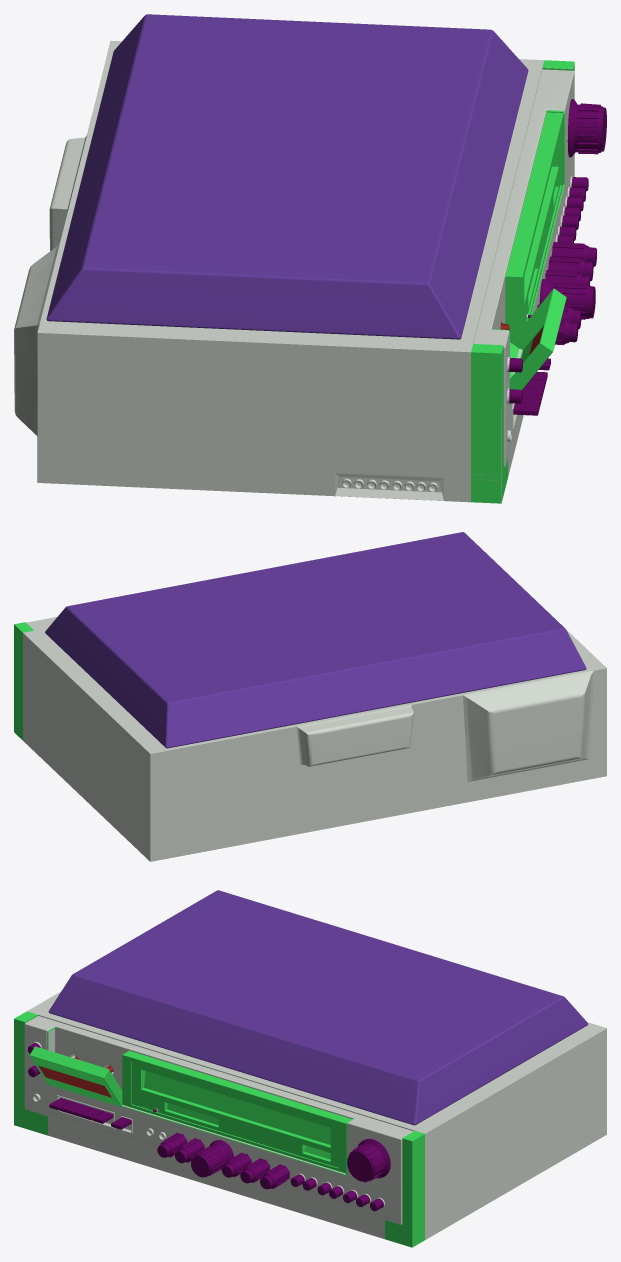
Rendered from radio.glb.
The picture shows the model from 3 angles, top to bottom: view 1: azimuth 30°, elevation 25°; view 2: azimuth 150°, elevation 25°; view 3: azimuth 270°, elevation 25°; orthographic projection. The views are drawn at different scales.
Visible parts, largest first — view 1: Player; view 2: Player; view 3: Player.
Boxes of the visible parts, left/top/right/bottom form: Player: left=14, top=14, right=606, bottom=503; Player: left=14, top=532, right=606, bottom=861; Player: left=14, top=890, right=606, bottom=1247.
Bounding box in the file's own units: 6.04 × 1.67 × 6.38.
